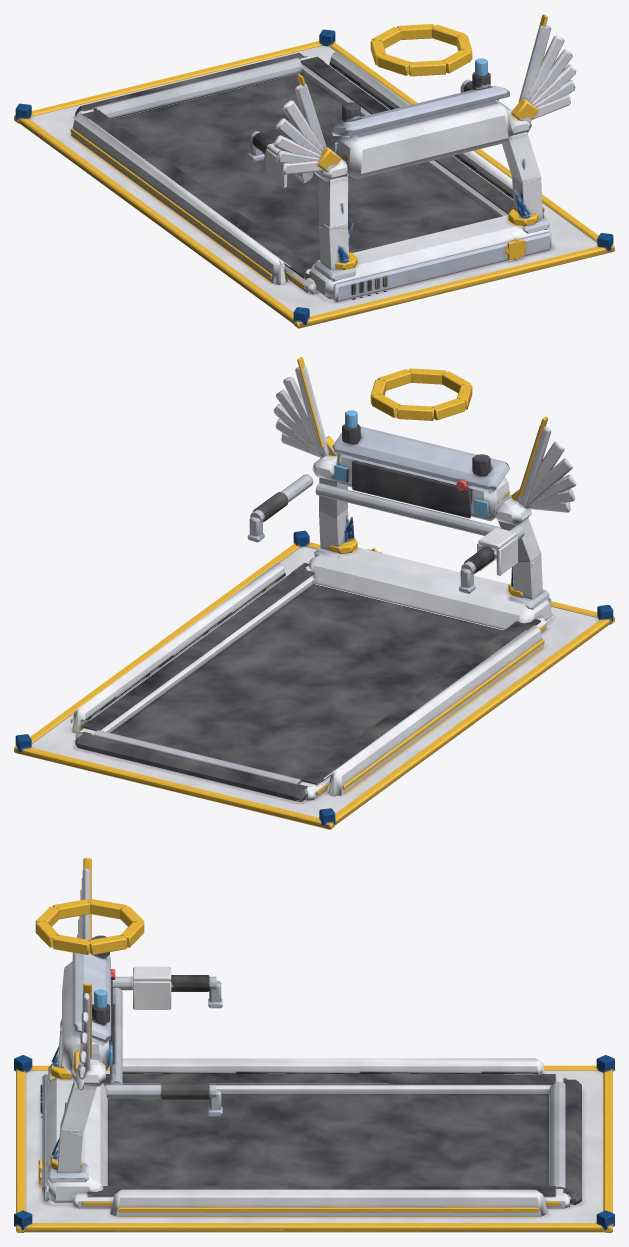
Rendered from Treadmill_Celeste_Rig.fbx.
3 renders of one model, top to bottom at view 1: azimuth 30°, elevation 25°; view 2: azimuth 150°, elevation 25°; view 3: azimuth 270°, elevation 25°, orthographic. The views are drawn at different scales.
Visible parts, largest first — view 1: Frame, Decor, Console; view 2: Frame, Decor, Console; view 3: Frame, Decor, Console.
Part boxes in pixels (left/top/right/bottom): Frame: left=75, top=53, right=551, bottom=301; Decor: left=14, top=14, right=614, bottom=328; Console: left=247, top=58, right=549, bottom=281; Frame: left=75, top=547, right=551, bottom=802; Decor: left=14, top=357, right=614, bottom=829; Console: left=247, top=410, right=549, bottom=609; Frame: left=38, top=1074, right=581, bottom=1208; Decor: left=14, top=858, right=614, bottom=1232; Console: left=48, top=935, right=222, bottom=1183.
Bounding box in the file's own units: 9.08 × 6 × 14.13.
Materials: 1 (1 with a texture image).
